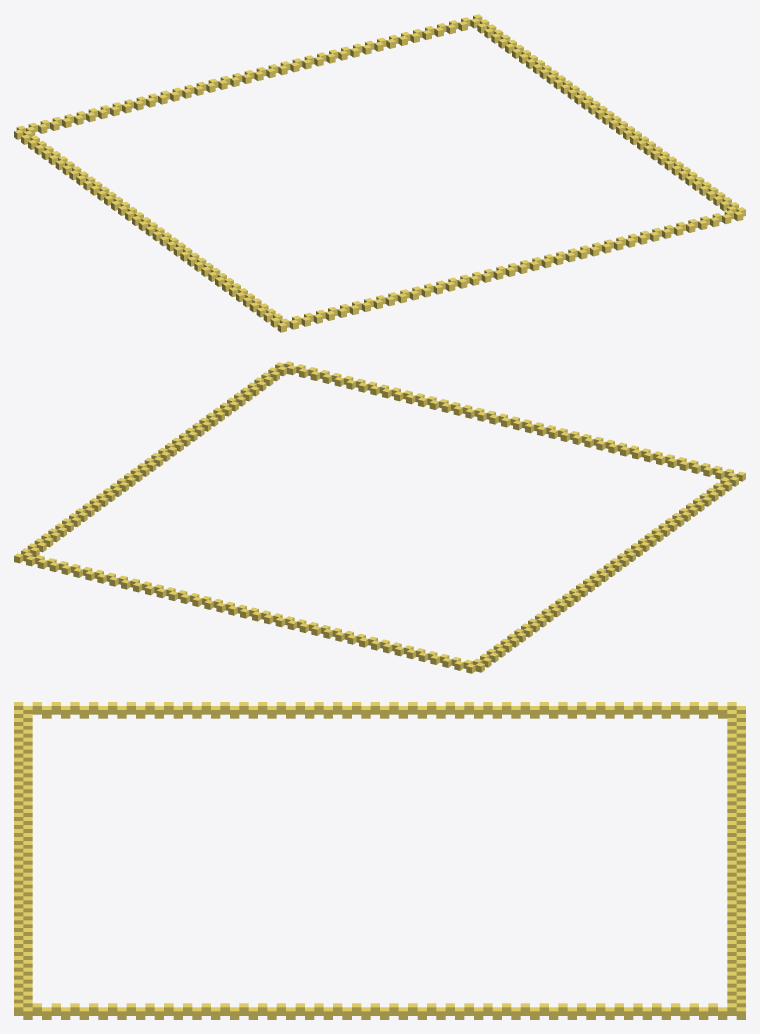
File: beach_3_overtile.glb
3 views of the same model, one above another, from view 1: azimuth 30°, elevation 25°; view 2: azimuth 150°, elevation 25°; view 3: azimuth 270°, elevation 25° (orthographic). The views are drawn at different scales.
Parts seen in each view (by area): view 1: beach_3_overtile; view 2: beach_3_overtile; view 3: beach_3_overtile.
Part boxes in pixels (x1,y1,x2,y2): beach_3_overtile: (14, 14, 745, 332); beach_3_overtile: (14, 361, 745, 673); beach_3_overtile: (14, 702, 745, 1019).
Size of the model in its own units: 7.8 by 0.1 by 7.8.
1 material, 1 textured.
